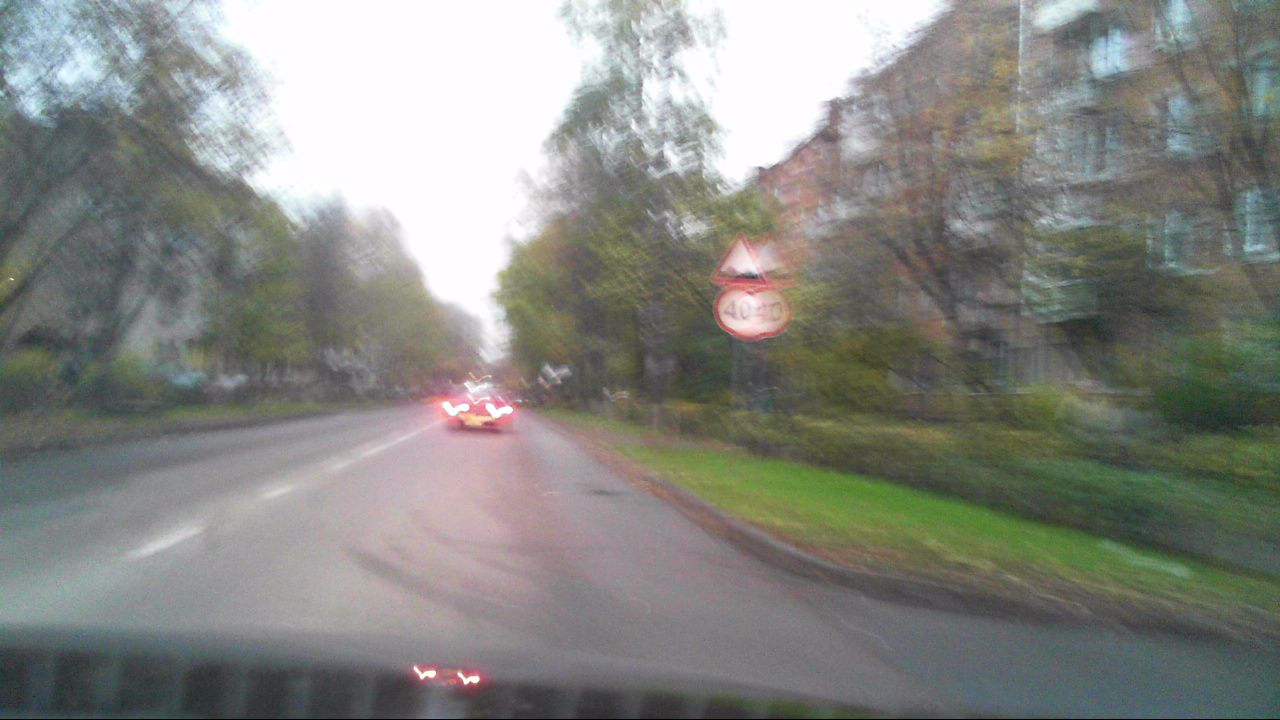speed_warning_40: (715, 286, 763, 340)
